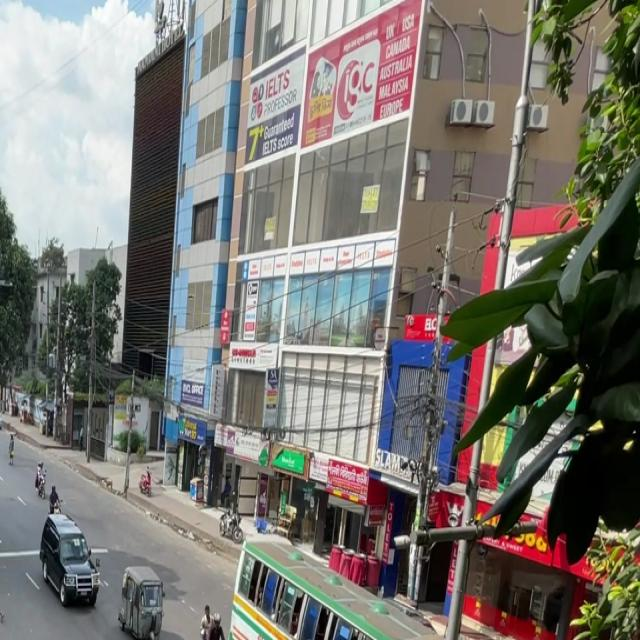bus: (230, 533, 512, 640)
car: (35, 513, 108, 613)
motorbike: (189, 600, 237, 640), (136, 464, 156, 501), (32, 462, 48, 502)
rickshaw: (111, 557, 175, 640)
